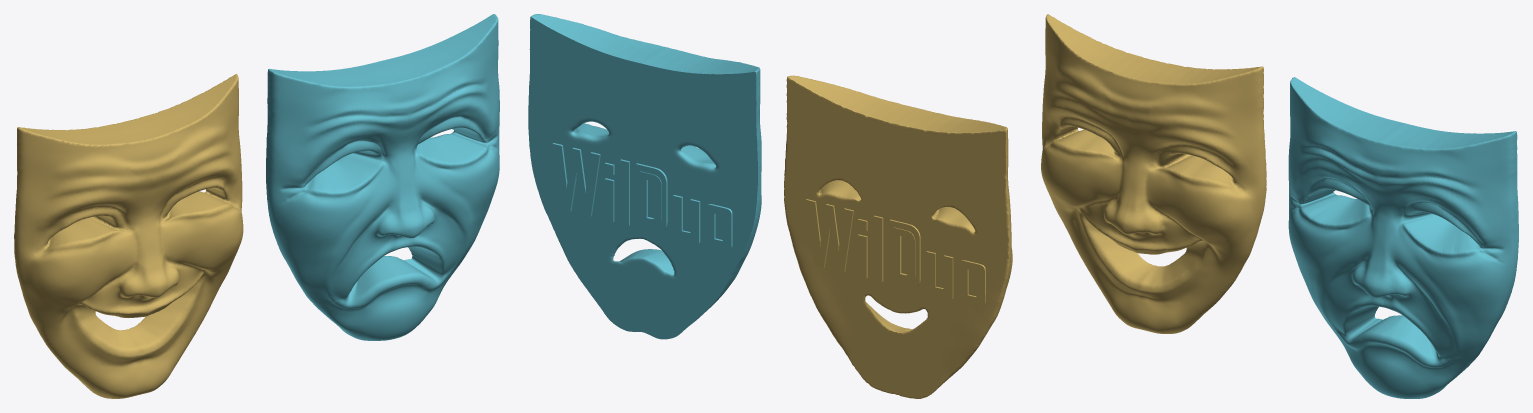
The model's file is chinhKich.glb.
3 renders of one model, left to right at view 1: azimuth 30°, elevation 25°; view 2: azimuth 150°, elevation 25°; view 3: azimuth 330°, elevation 25°, orthographic.
Parts seen in each view (by area): view 1: Object_3, Object_2, Object_4, Object_5; view 2: Object_4, Object_2, Object_5, Object_3; view 3: Object_2, Object_3, Object_4, Object_5.
Part boxes in pixels (bbox=[...]): Object_3: bbox=[15, 14, 499, 398]; Object_2: bbox=[266, 14, 499, 314]; Object_4: bbox=[14, 88, 243, 386]; Object_5: bbox=[14, 78, 448, 398]; Object_4: bbox=[784, 97, 1012, 382]; Object_2: bbox=[528, 14, 761, 337]; Object_5: bbox=[532, 18, 1012, 398]; Object_3: bbox=[532, 14, 1012, 398]; Object_2: bbox=[1288, 77, 1518, 395]; Object_3: bbox=[1041, 14, 1518, 398]; Object_4: bbox=[1041, 29, 1266, 329]; Object_5: bbox=[1041, 16, 1424, 378].
Bounding box in the file's own units: 86.61 × 50.54 × 11.05.
